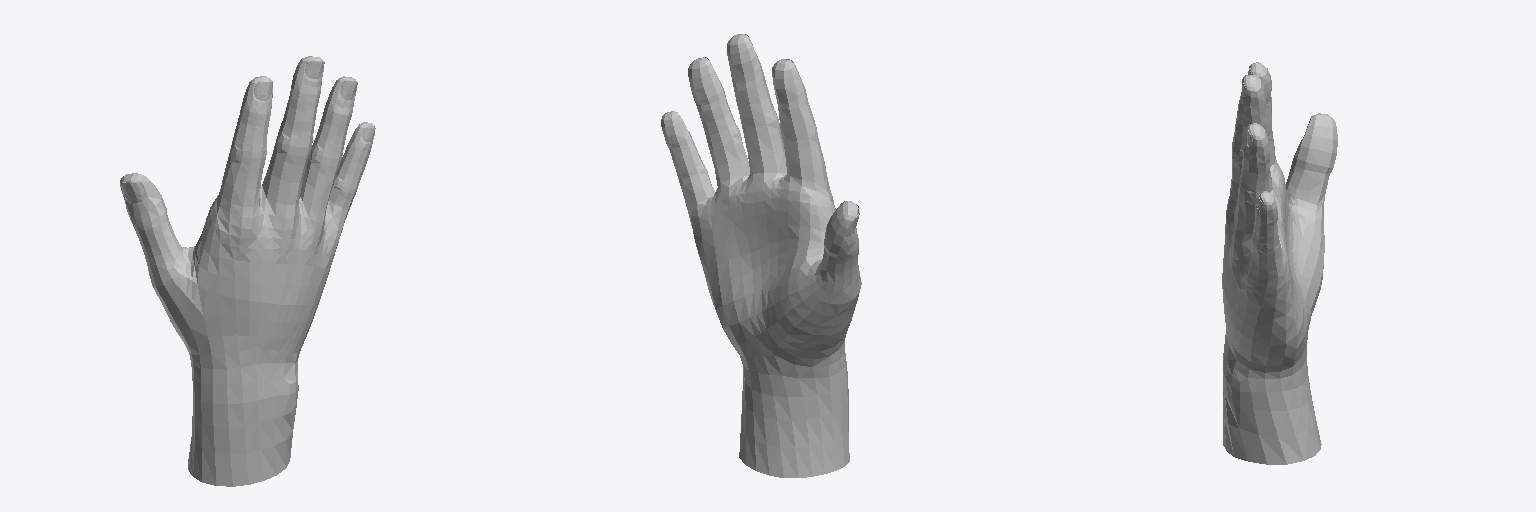
The model's file is Human_Hand.obj.
3 renders of one model, left to right at view 1: azimuth 30°, elevation 25°; view 2: azimuth 150°, elevation 25°; view 3: azimuth 270°, elevation 25°, orthographic.
Visible parts, largest first — view 1: polySurface4_Mesh; view 2: polySurface4_Mesh; view 3: polySurface4_Mesh.
Part boxes in pixels (x1,y1,x2,y2): polySurface4_Mesh: (120, 56, 375, 486); polySurface4_Mesh: (661, 34, 861, 477); polySurface4_Mesh: (1222, 62, 1337, 464).
Bounding box in the file's own units: 0.2818 × 0.48 × 0.1259.